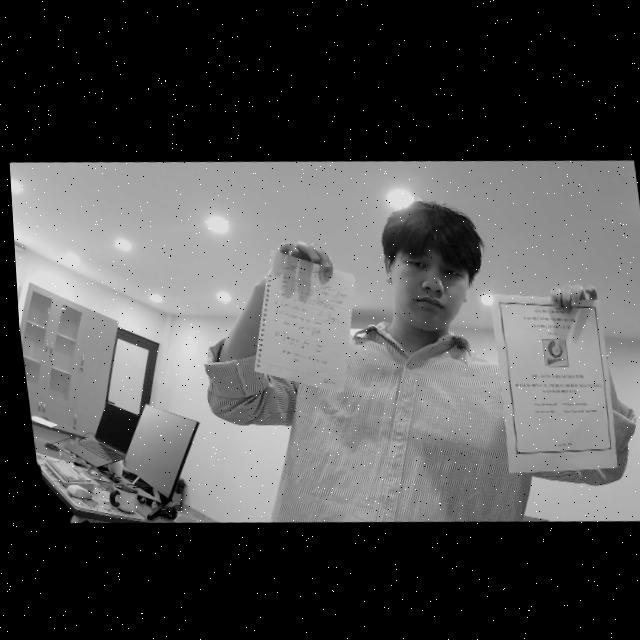document: (489, 294, 616, 473), (254, 249, 356, 393)
face: (385, 239, 477, 329)
